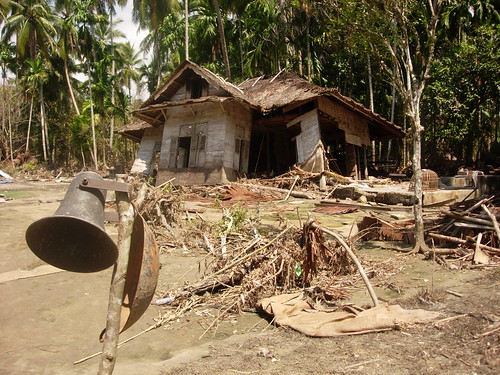building: (140, 66, 392, 210)
vegetation: (166, 1, 488, 131), (1, 1, 148, 177)
